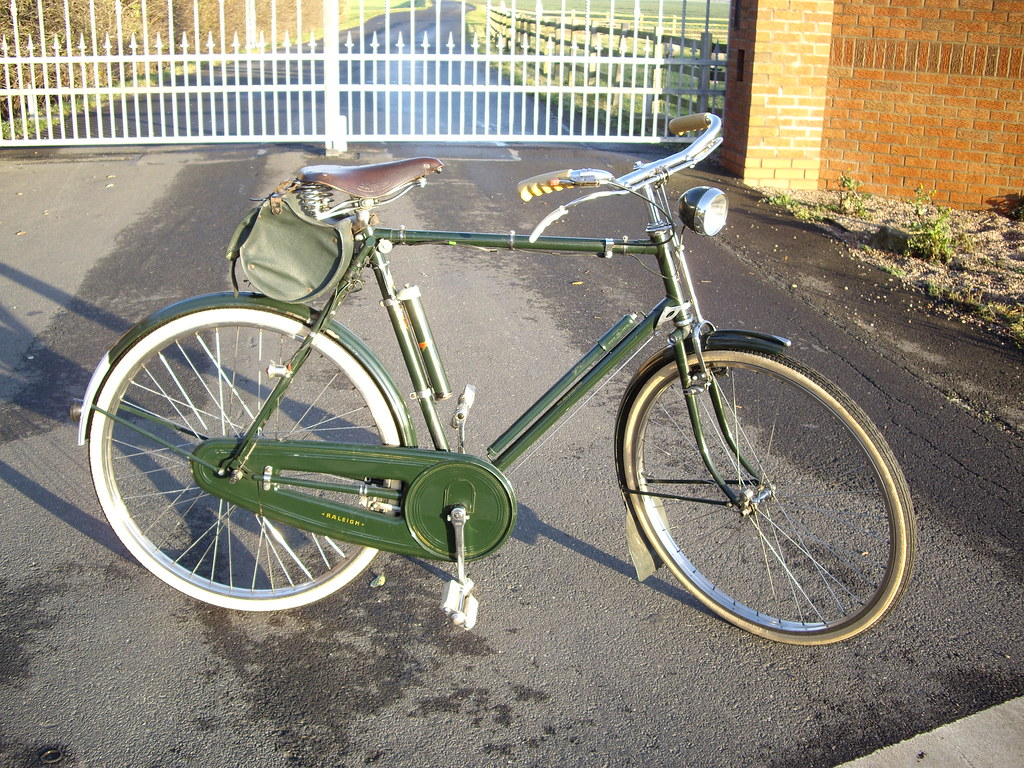cycle: (78, 103, 928, 692)
